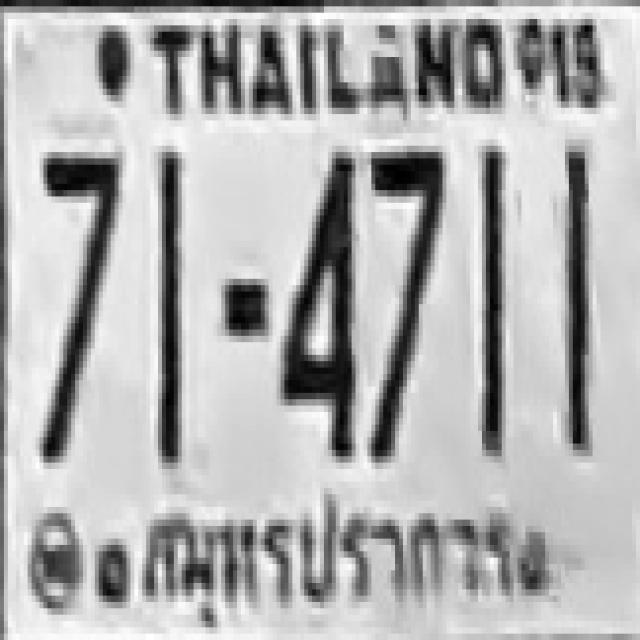1: (559, 146, 591, 450), (478, 146, 506, 456), (154, 149, 182, 459)
4: (278, 149, 354, 453)
7: (38, 146, 116, 456), (368, 146, 442, 456), (40, 146, 119, 355)
SamutPrakan: (128, 471, 531, 640)
